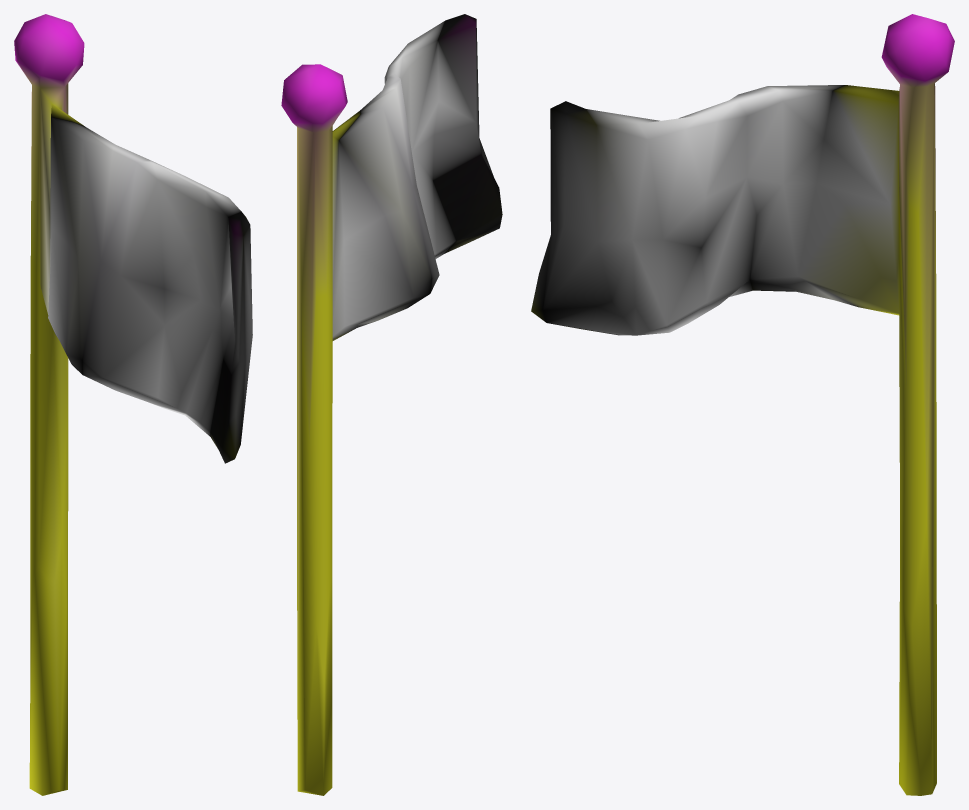
The model's file is acc_kart_flag.glb.
The picture shows the model from 3 angles, left to right: view 1: azimuth 30°, elevation 25°; view 2: azimuth 150°, elevation 25°; view 3: azimuth 270°, elevation 25°; orthographic projection. The views are drawn at different scales.
Visible parts, largest first — view 1: geometry_0; view 2: geometry_0; view 3: geometry_0.
Boxes of the visible parts, x1,y1,x2,y2 form: geometry_0: (14, 14, 252, 795); geometry_0: (281, 14, 502, 795); geometry_0: (531, 14, 954, 795).
Size of the model in its own units: 0.0885 by 0.7 by 0.3478.
